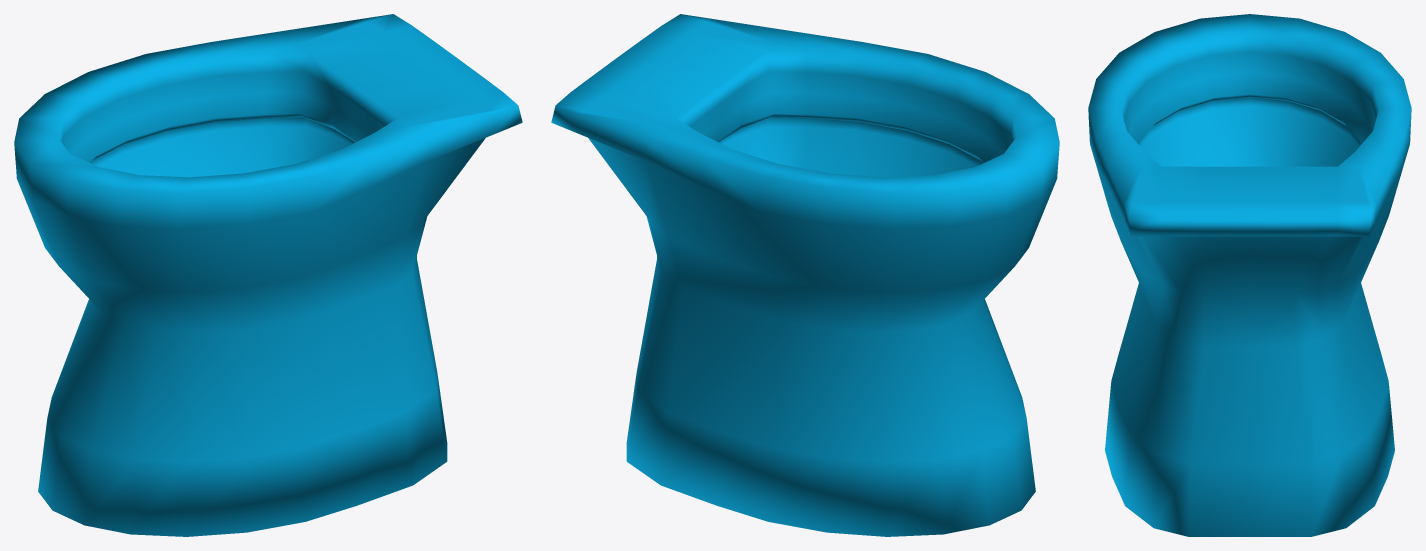
The picture shows the model from 3 angles, left to right: view 1: azimuth 30°, elevation 25°; view 2: azimuth 150°, elevation 25°; view 3: azimuth 270°, elevation 25°; orthographic projection. The views are drawn at different scales.
Parts seen in each view (by area): view 1: Wc_01_Lod1; view 2: Wc_01_Lod1; view 3: Wc_01_Lod1.
Part boxes in pixels (x1=…): Wc_01_Lod1: x1=14, y1=14, x2=522, y2=536; Wc_01_Lod1: x1=551, y1=14, x2=1059, y2=536; Wc_01_Lod1: x1=1088, y1=14, x2=1411, y2=536.
Bounding box in the file's own units: 52.95 × 41.37 × 35.5.
